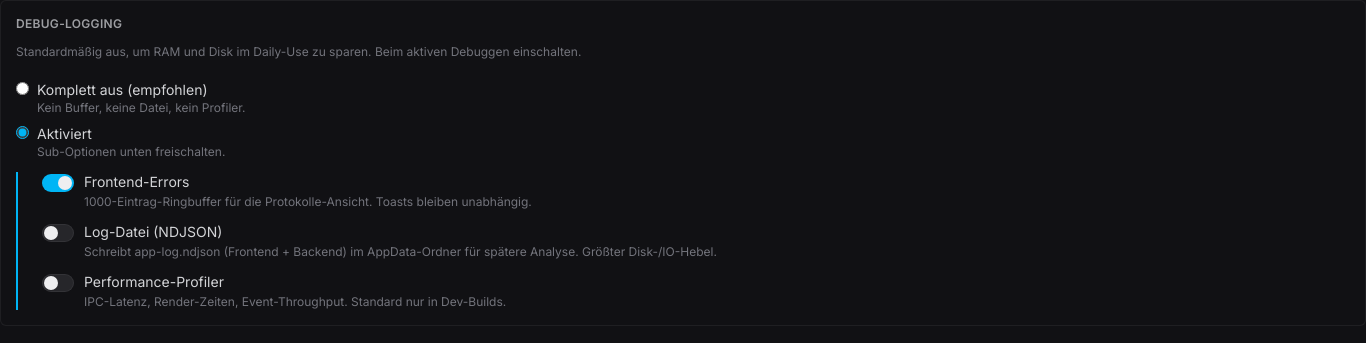
Scenario: DebugLoggingSection › unchecking the last enabled sub-toggle flips master back to off
This screenshot has width=1366, height=343.
Click the switch named "Frontend-Errors" at (58, 183), box x1=42 y1=174 x2=74 y2=192
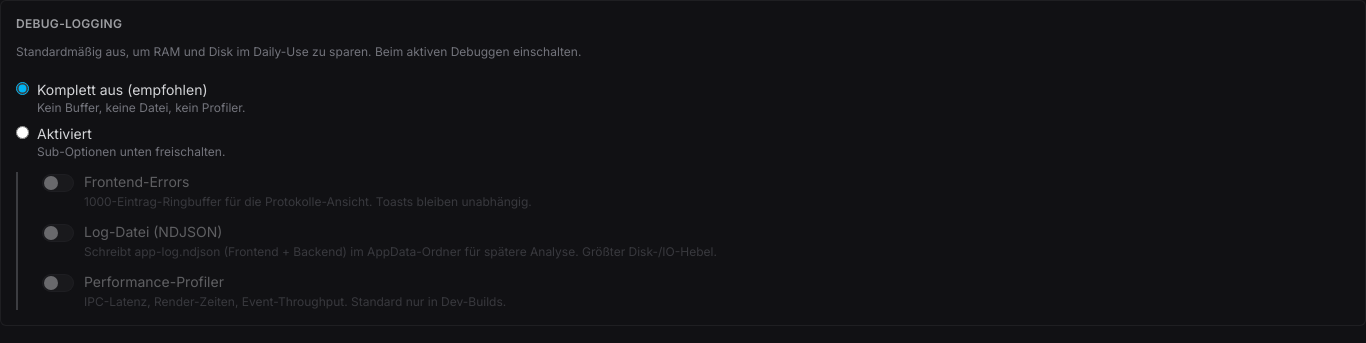
Check: the radio button labelled "Komplett aus" is checked, box x1=16 y1=82 x2=29 y2=95
